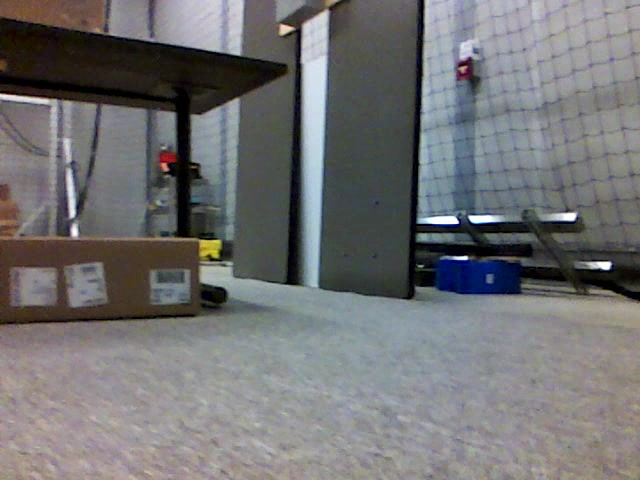box: (1, 241, 198, 320)
